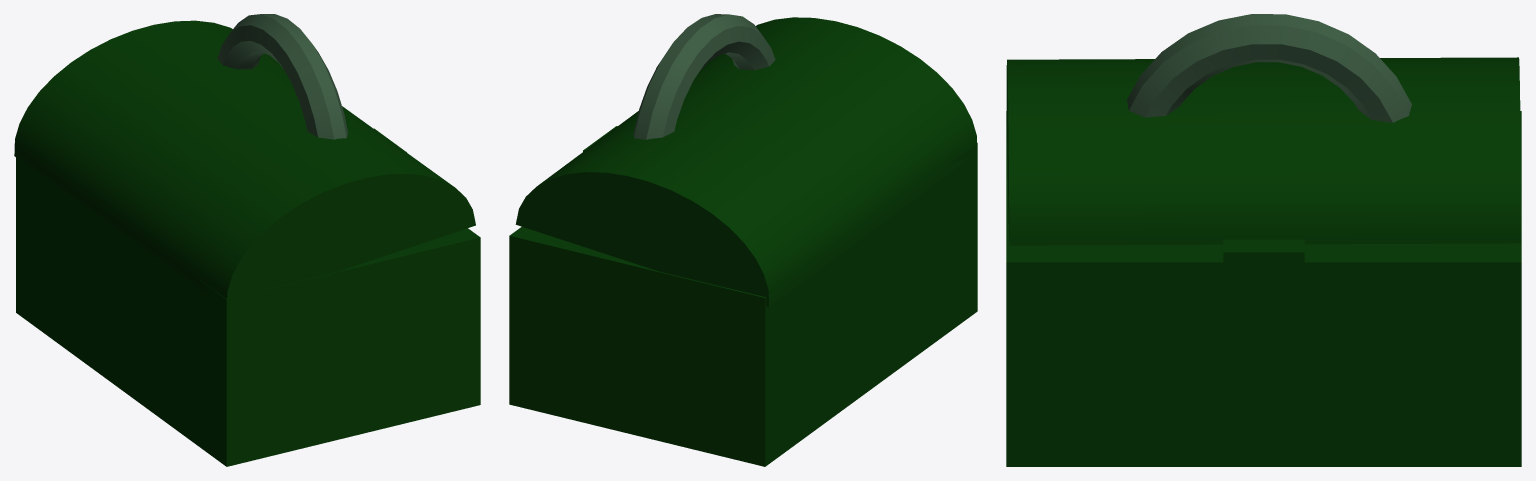
3 views of the same model, side by side, from view 1: azimuth 30°, elevation 25°; view 2: azimuth 150°, elevation 25°; view 3: azimuth 270°, elevation 25° (orthographic). The views are drawn at different scales.
Visible parts, largest first — view 1: 立方体, 円柱, 円柱_1; view 2: 立方体, 円柱, 円柱_1; view 3: 立方体, 円柱, 円柱_1, 立方体_1.
Boxes of the visible parts, x1,y1,x2,y2 form: 立方体: (16,157,480,466); 円柱: (14,20,475,303); 円柱_1: (217,14,347,139); 立方体: (509,142,977,466); 円柱: (515,17,976,307); 円柱_1: (633,14,775,139); 立方体: (1006,111,1521,466); 円柱: (1006,57,1521,245); 円柱_1: (1127,14,1411,122); 立方体_1: (1223,239,1304,325).
Size of the model in its own units: 340 by 388 by 456.
